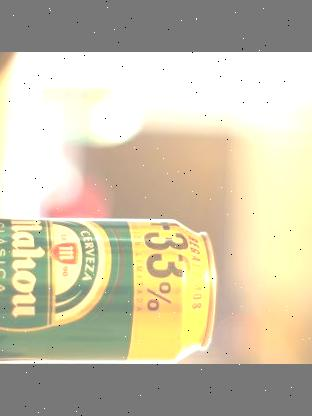Can: (0, 218, 215, 363)
